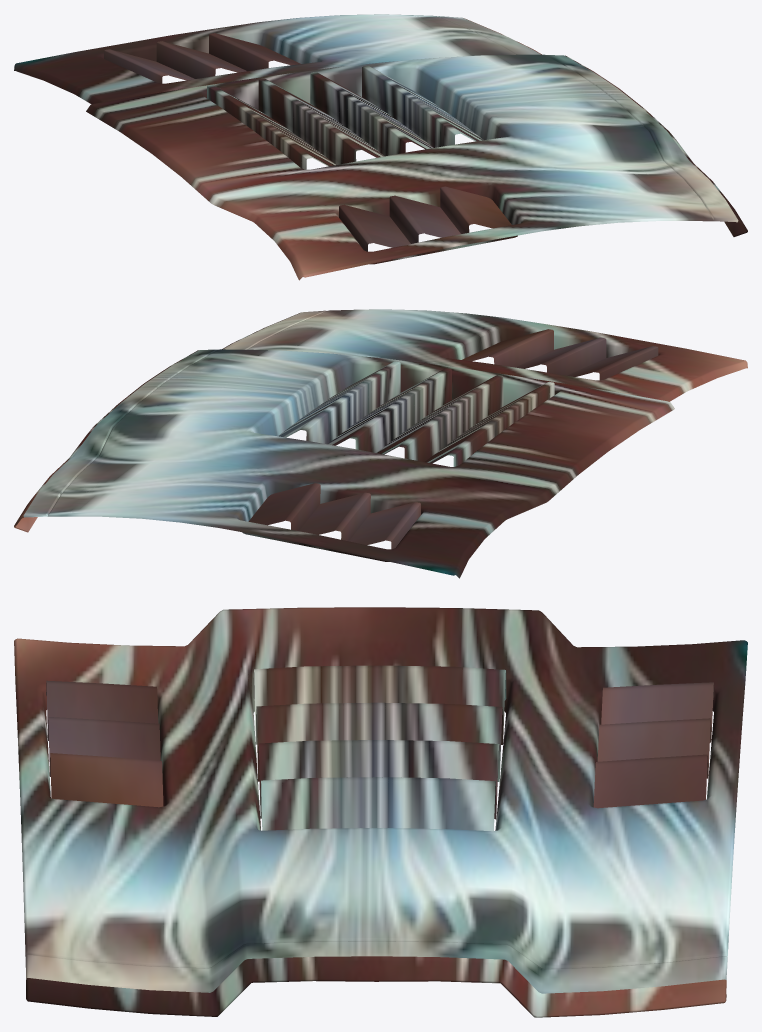
Rendered from Cofre.obj.
3 renders of one model, top to bottom at view 1: azimuth 30°, elevation 25°; view 2: azimuth 150°, elevation 25°; view 3: azimuth 270°, elevation 25°, orthographic. The views are drawn at different scales.
Parts seen in each view (by area): view 1: Cofre; view 2: Cofre; view 3: Cofre.
Part boxes in pixels (x1=…): Cofre: x1=14, y1=14, x2=747, y2=280; Cofre: x1=14, y1=309, x2=747, y2=578; Cofre: x1=14, y1=607, x2=747, y2=1017.
Size of the model in its own units: 16.34 by 3.18 by 17.01.
